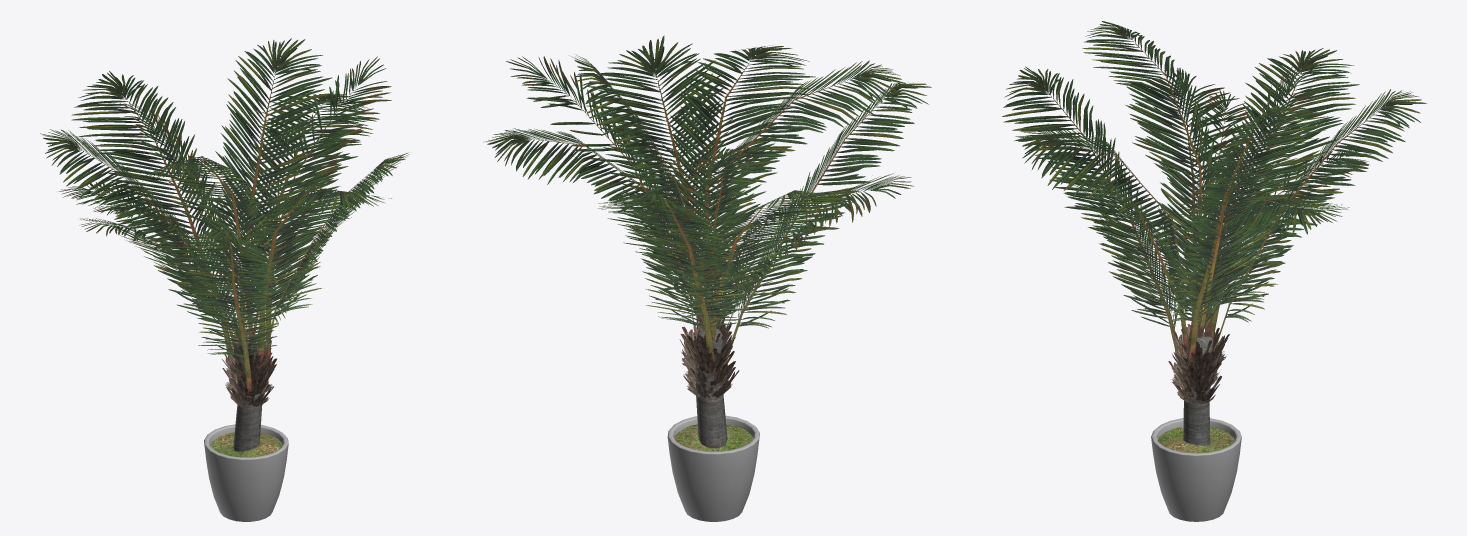
File: MB_Pot_Flower_04.fbx
3 views of the same model, side by side, from view 1: azimuth 30°, elevation 25°; view 2: azimuth 150°, elevation 25°; view 3: azimuth 270°, elevation 25° (orthographic). The views are drawn at different scales.
Parts seen in each view (by area): view 1: MB_Pot_Flower_04_LOD0; view 2: MB_Pot_Flower_04_LOD0; view 3: MB_Pot_Flower_04_LOD0.
Boxes of the visible parts, bbox=[...] form: MB_Pot_Flower_04_LOD0: bbox=[40, 38, 409, 521]; MB_Pot_Flower_04_LOD0: bbox=[483, 35, 931, 521]; MB_Pot_Flower_04_LOD0: bbox=[1002, 21, 1426, 521].
Size of what is drawn, in the model's own units: 208 by 245 by 224.
